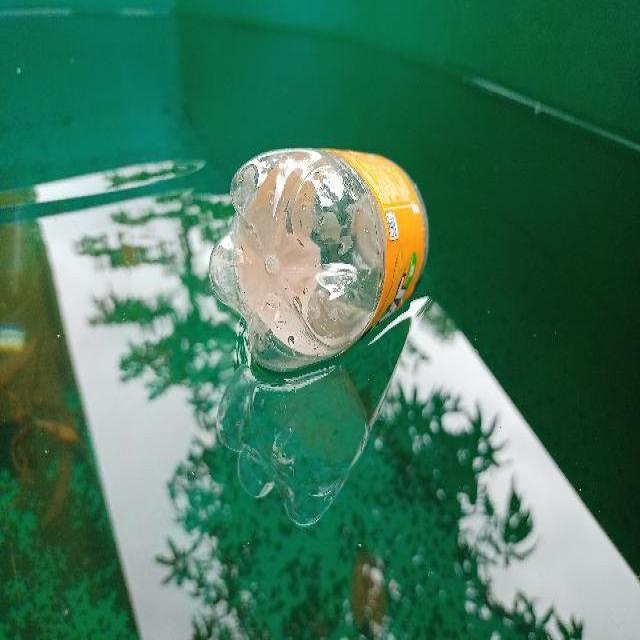Bottle: (201, 136, 443, 386)
